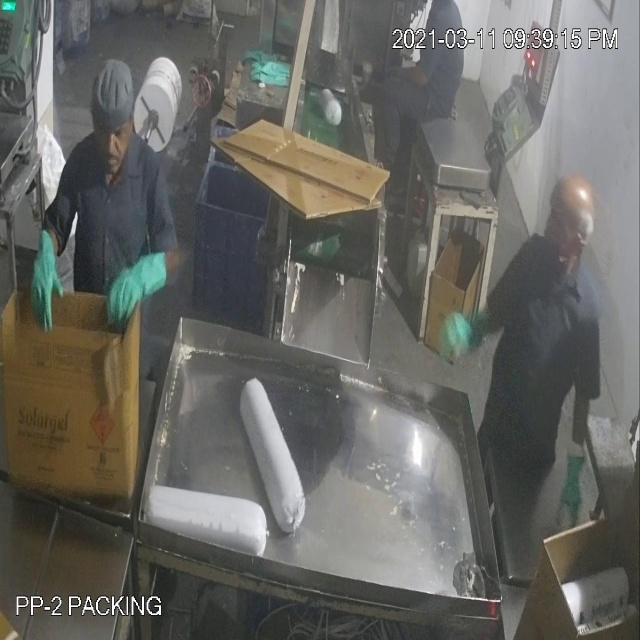Guantes: (28, 216, 77, 340), (107, 243, 172, 321)
